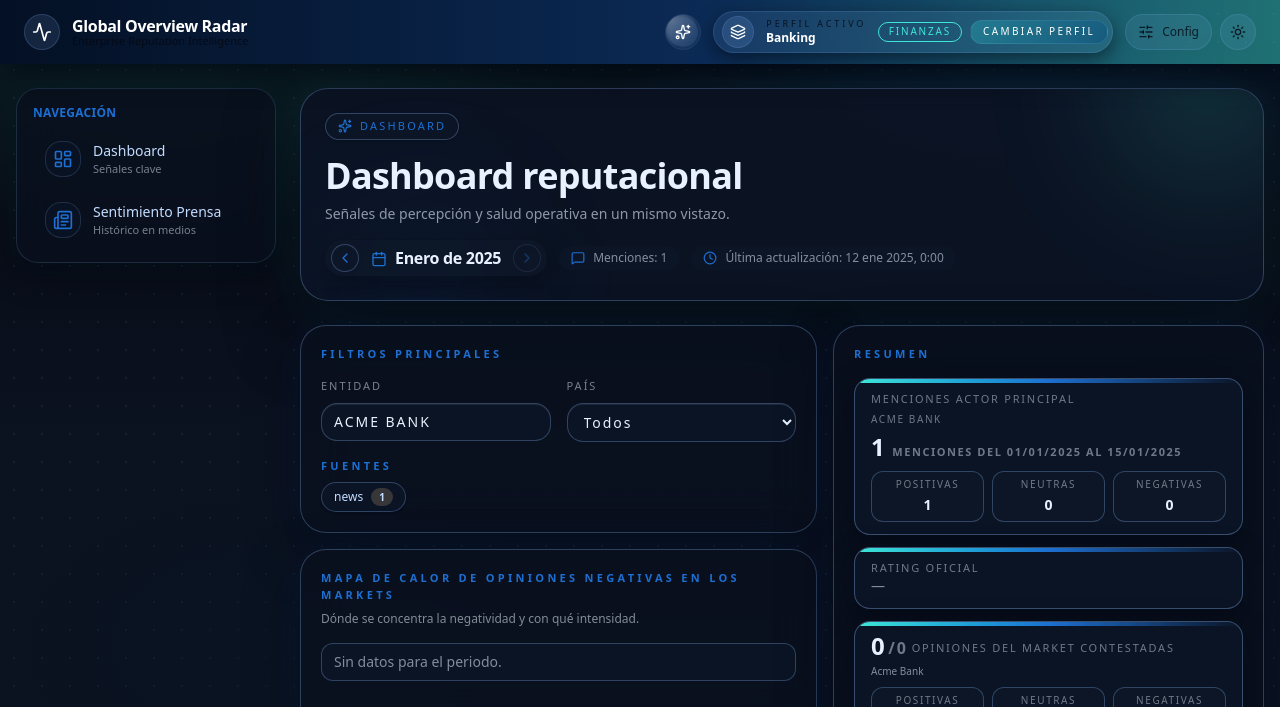
it: SentimentView dashboard › uses natural month range and supports month navigation
This screenshot has width=1280, height=707.
Expected: the heading "Dashboard reputacional" is shown, x1=325 y1=150 x2=742 y2=200
Expected: the button named "Mes siguiente" is disabled, x1=513 y1=244 x2=541 y2=272
Click the button named "Mes anterior".
click(345, 258)  # box x1=331 y1=244 x2=359 y2=272
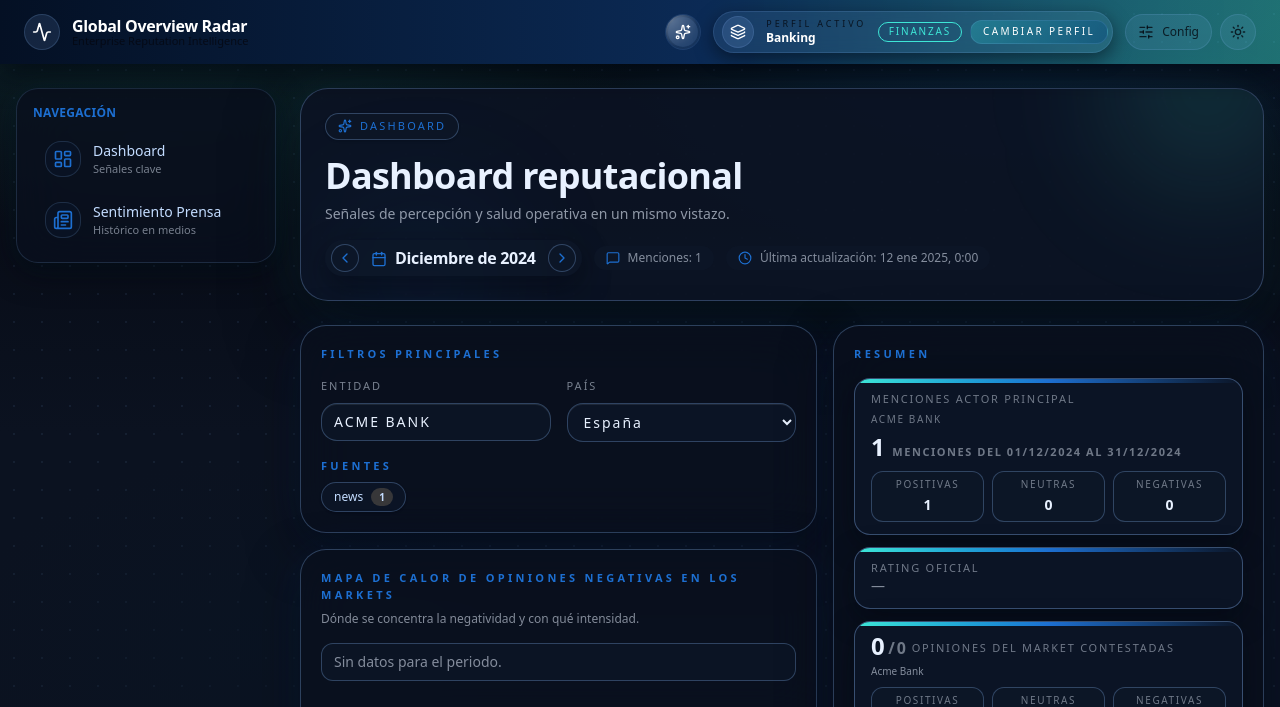
Now the button named "Mes siguiente" is enabled, box x1=548 y1=244 x2=576 y2=272
